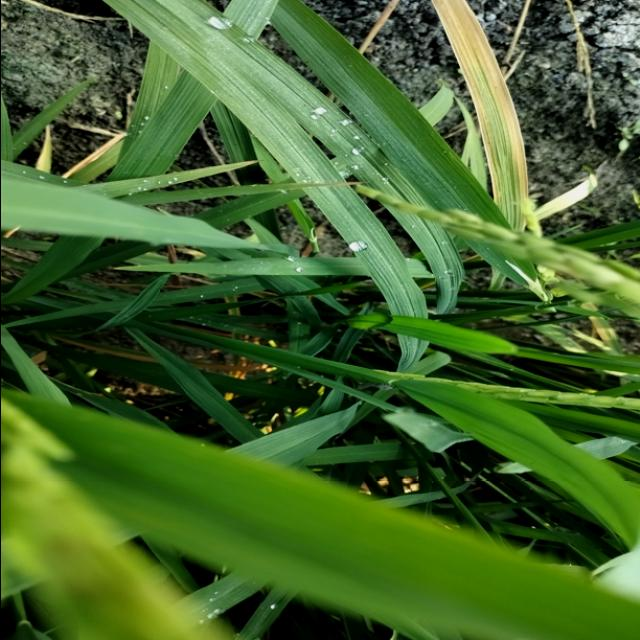Brown spot: (414, 0, 535, 214)
